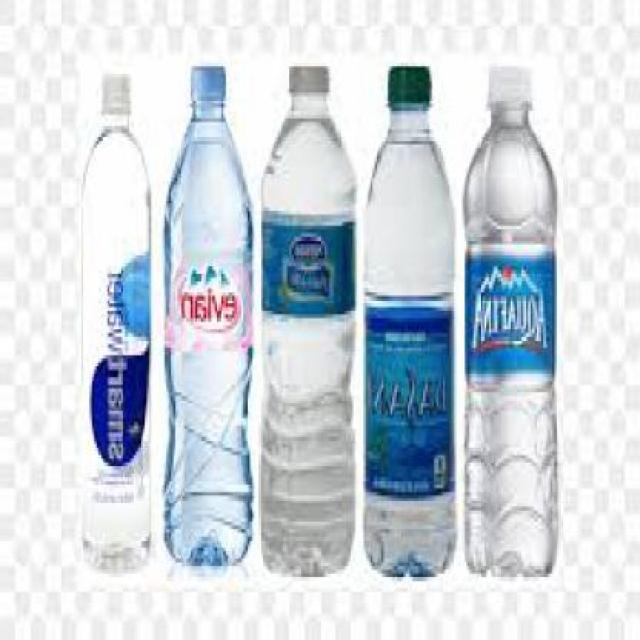PLASTIC: (460, 63, 562, 574), (265, 66, 360, 577), (366, 59, 456, 573), (162, 67, 255, 562), (80, 71, 152, 566), (488, 62, 534, 115), (391, 59, 434, 112), (191, 63, 231, 100), (101, 74, 136, 114), (292, 62, 333, 96)
